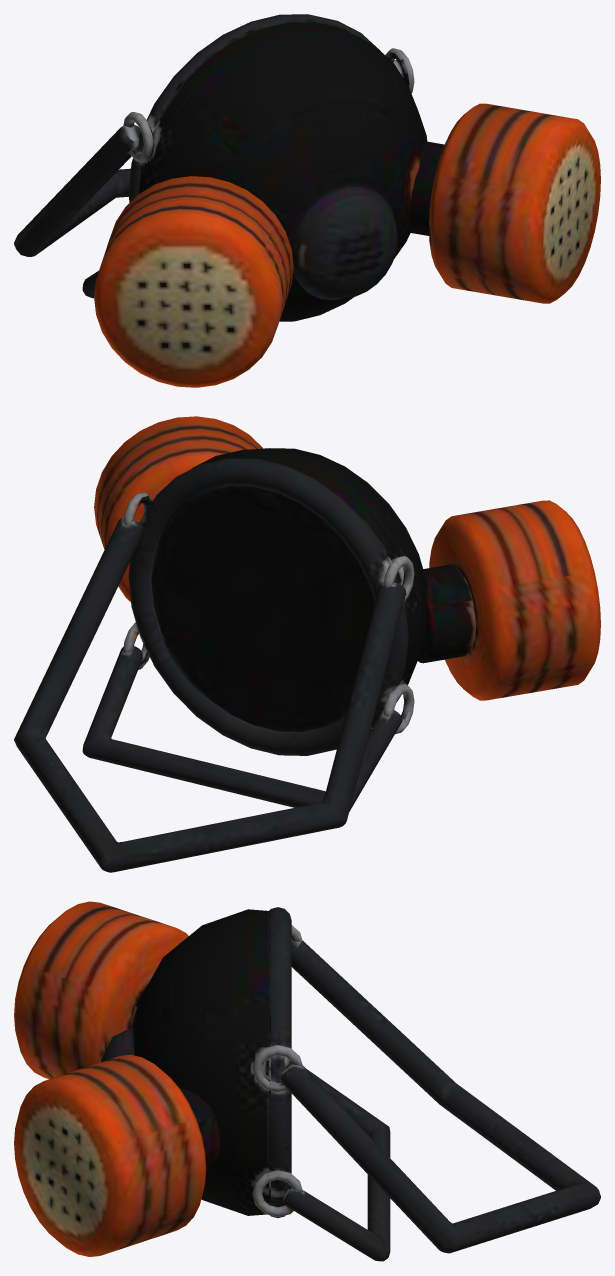
The model's file is rebreather.glb.
3 renders of one model, top to bottom at view 1: azimuth 30°, elevation 25°; view 2: azimuth 150°, elevation 25°; view 3: azimuth 270°, elevation 25°, orthographic. The views are drawn at different scales.
Parts seen in each view (by area): view 1: rebreather; view 2: rebreather; view 3: rebreather.
Part boxes in pixels (x1,y1,x2,y2): rebreather: (14,14,600,387); rebreather: (14,416,600,872); rebreather: (14,901,600,1261).
Size of the model in its own units: 0.2468 by 0.1377 by 0.2555.
1 material, 1 textured.
